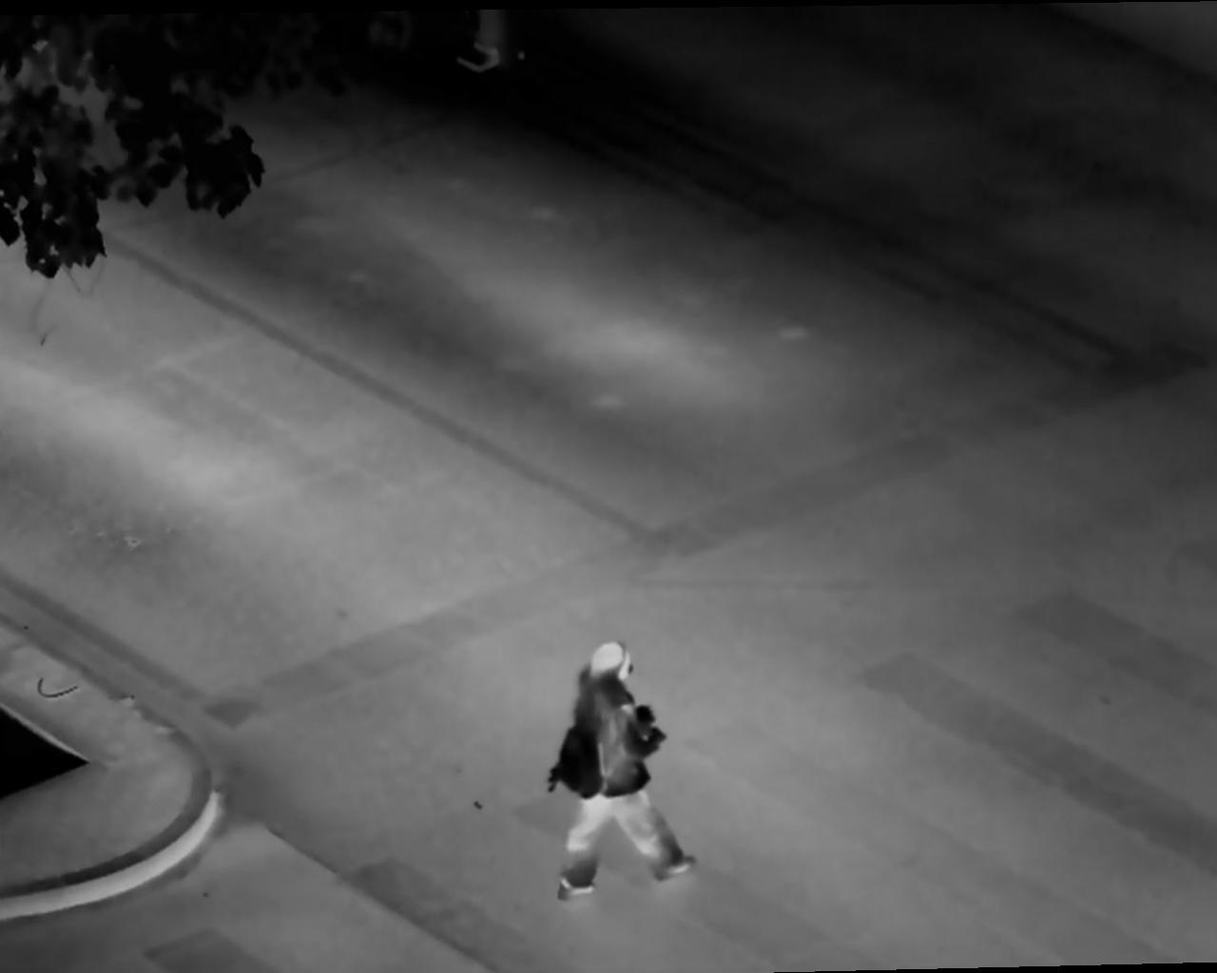person: (539, 637, 705, 910)
